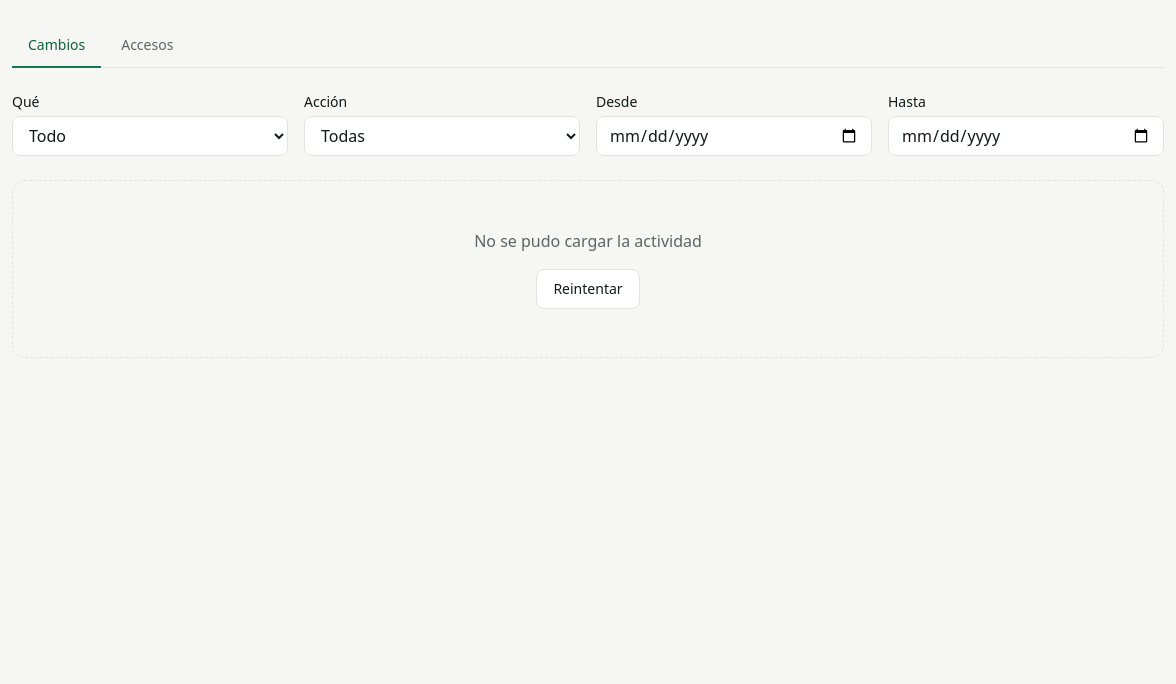
Scenario: Actividad: pestaña Cambios › si falla muestra el error y Reintentar vuelve a pedir
The width and height of the screenshot is (1176, 684).
Expected: the text "No se pudo cargar la actividad" is shown, [474,229,702,253]
Click the button "Reintentar".
click(588, 289)  # box [536,269,640,309]
(page scrolled)
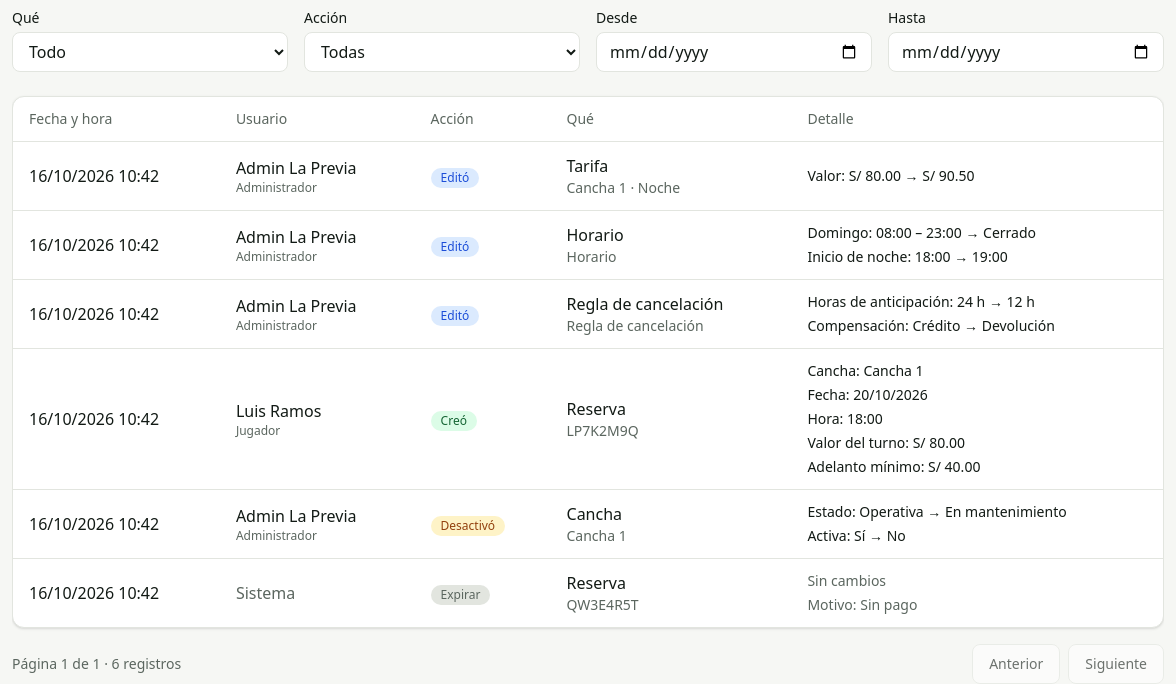
Now the table named "Cambios" is shown
